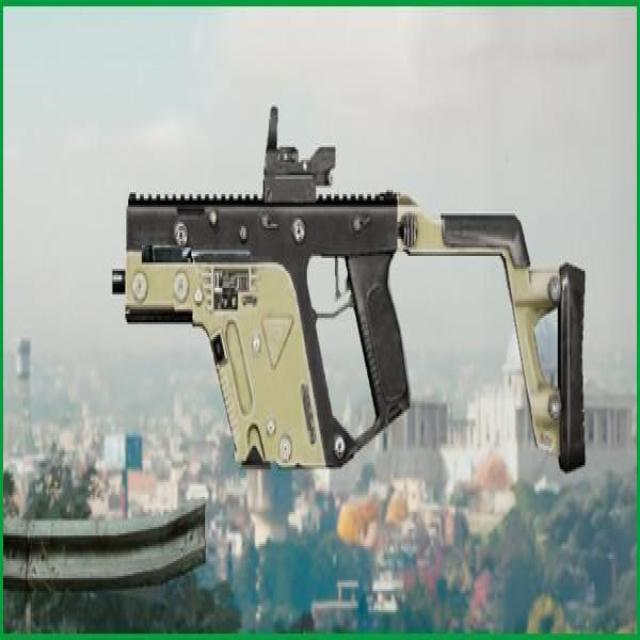weapon: (107, 104, 590, 478)
